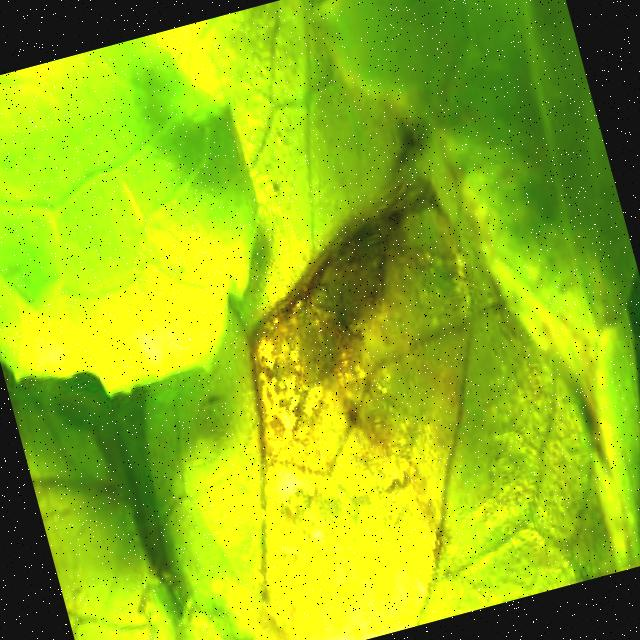Bacterial: (200, 164, 542, 542)
